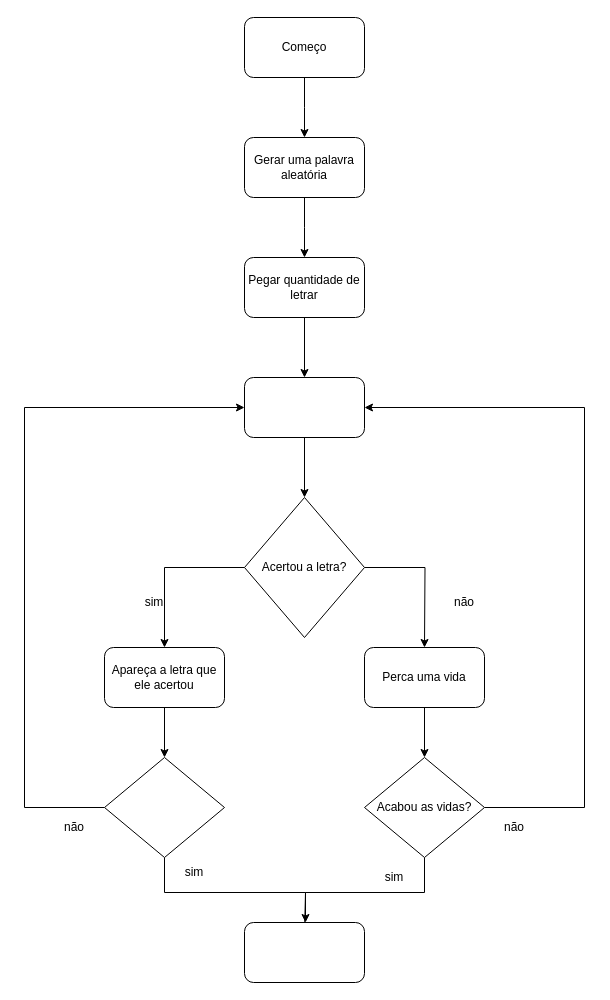
This 610x1000 diagram has some shape labels left out. Here are the shapes that lost their labels. From the top down, the centre of each, then its label:
At [304,407]: "Perguntar ao jogador qual letra ele quer escolher".
At [164,807]: "Acertou todas?".
At [304,952]: "Game Over".
